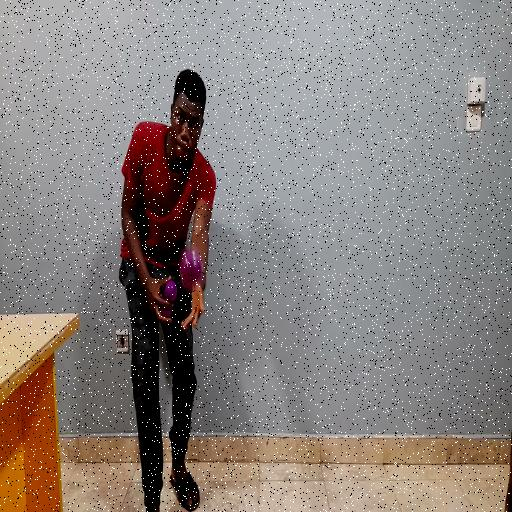plastic-ball: (180, 249, 203, 288)
